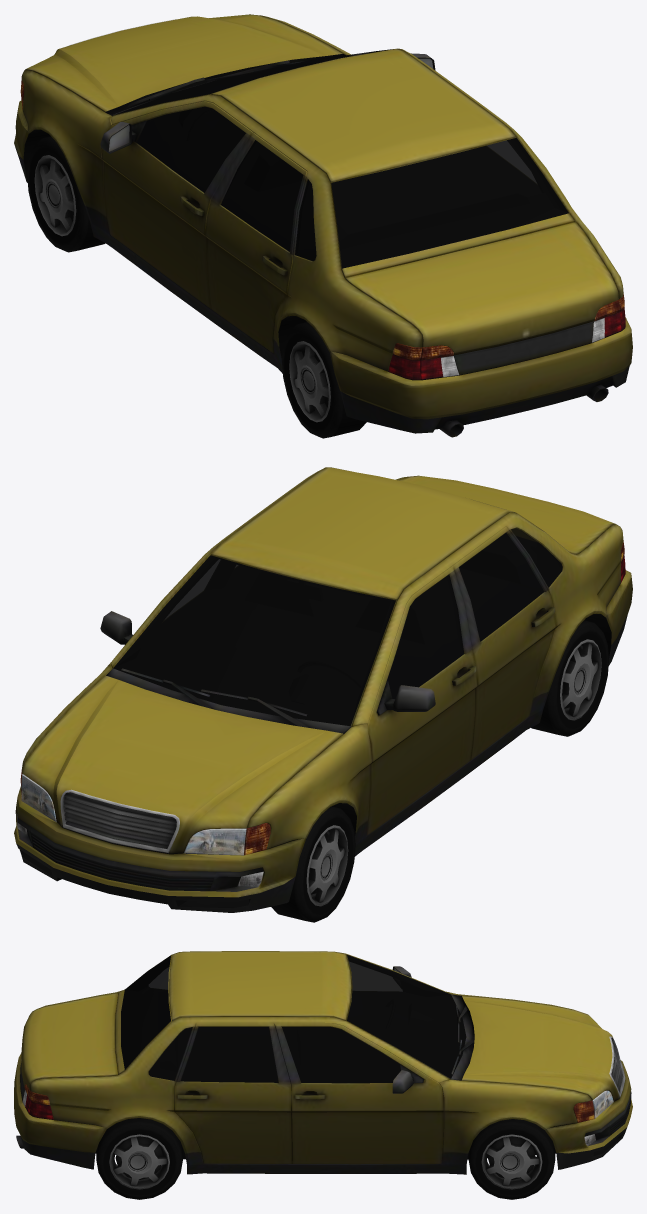
The model's file is c_sedan.glb.
3 views of the same model, one above another, from view 1: azimuth 30°, elevation 25°; view 2: azimuth 150°, elevation 25°; view 3: azimuth 270°, elevation 25° (orthographic). The views are drawn at different scales.
Visible parts, largest first — view 1: body|Body_5, body|glass, body|Wheel_4, body|Optics_5; view 2: body|Body_5, body|glass, body|Wheel_4, body|Optics_5; view 3: body|Body_5, body|glass, body|Wheel_4, body|Optics_5.
Boxes of the visible parts, bbox=[...] form: body|Body_5: bbox=[14, 14, 632, 437]; body|glass: bbox=[114, 49, 568, 268]; body|Wheel_4: bbox=[27, 136, 366, 438]; body|Optics_5: bbox=[20, 76, 625, 380]; body|Body_5: bbox=[14, 467, 632, 912]; body|glass: bbox=[113, 528, 562, 726]; body|Wheel_4: bbox=[271, 620, 608, 922]; body|Optics_5: bbox=[16, 542, 625, 887]; body|Body_5: bbox=[14, 951, 632, 1174]; body|glass: bbox=[121, 955, 466, 1083]; body|Wheel_4: bbox=[96, 1118, 555, 1199]; body|Optics_5: bbox=[22, 1084, 613, 1145].
Size of the model in its own units: 1.94 by 1.34 by 4.36.
4 materials, 3 textured.
